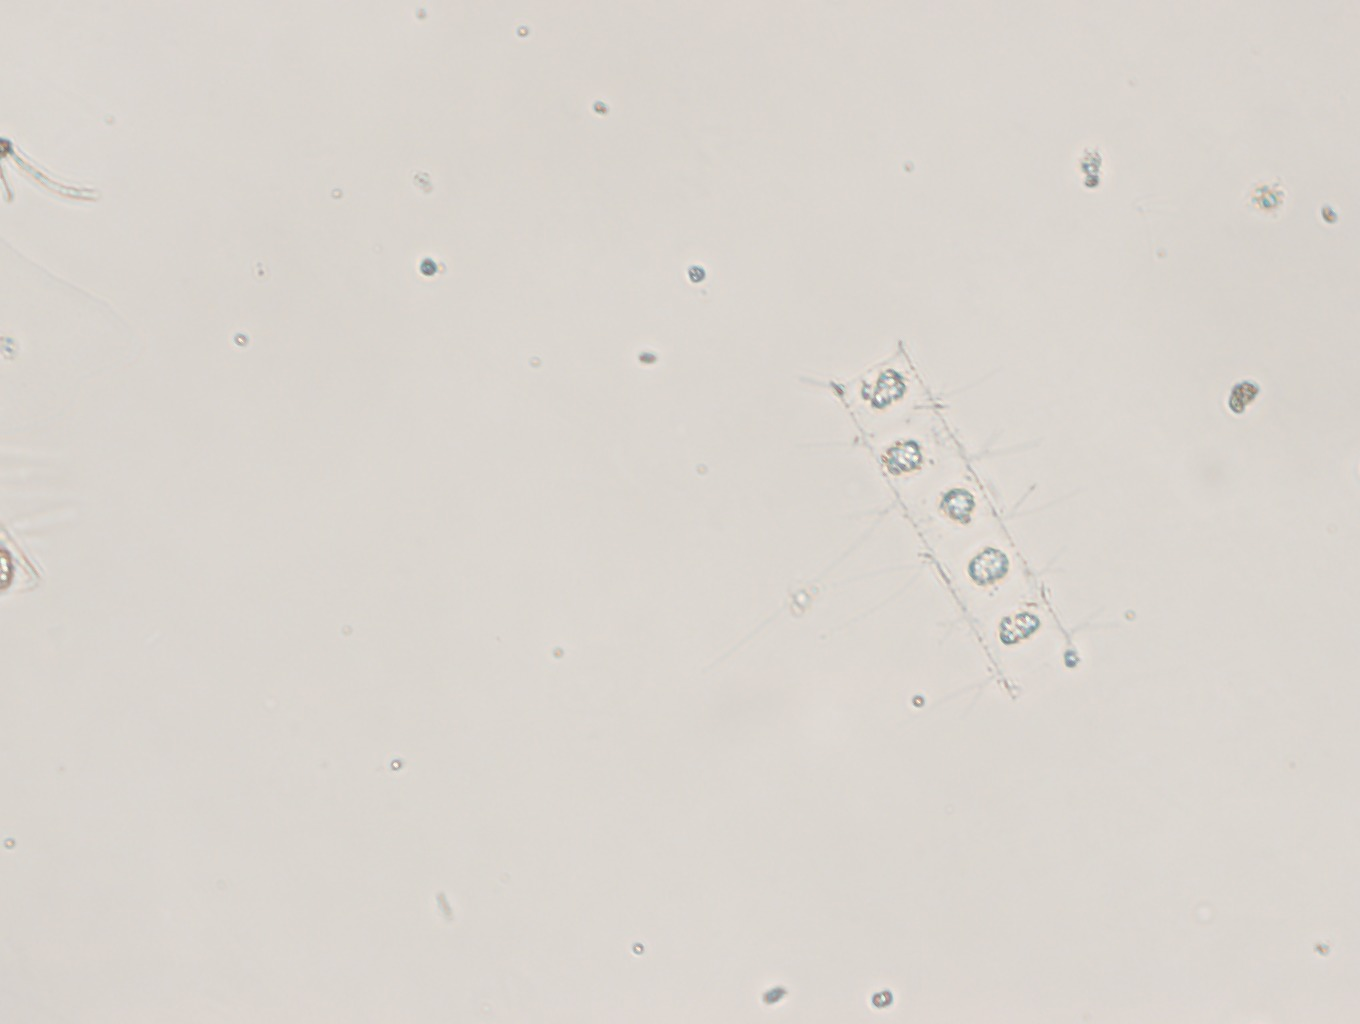chaetoceros: (771, 337, 1146, 727)
